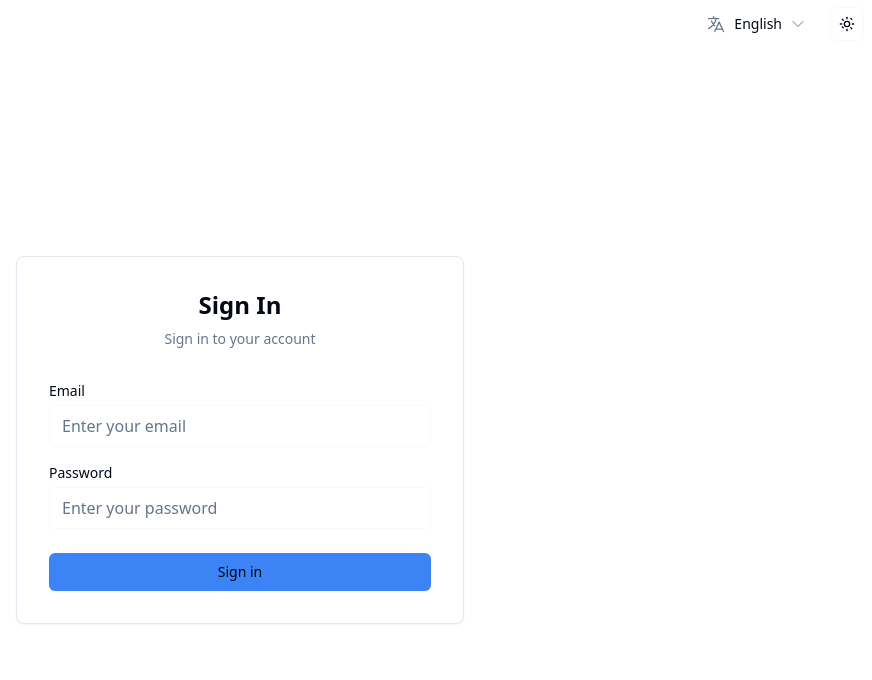
it: LoginPage › form submission › should show error message on login failure
The image size is (872, 680).
Type "user@example.com" into the field labelled "Email" at x=240, y=426, box [49, 405, 431, 447]
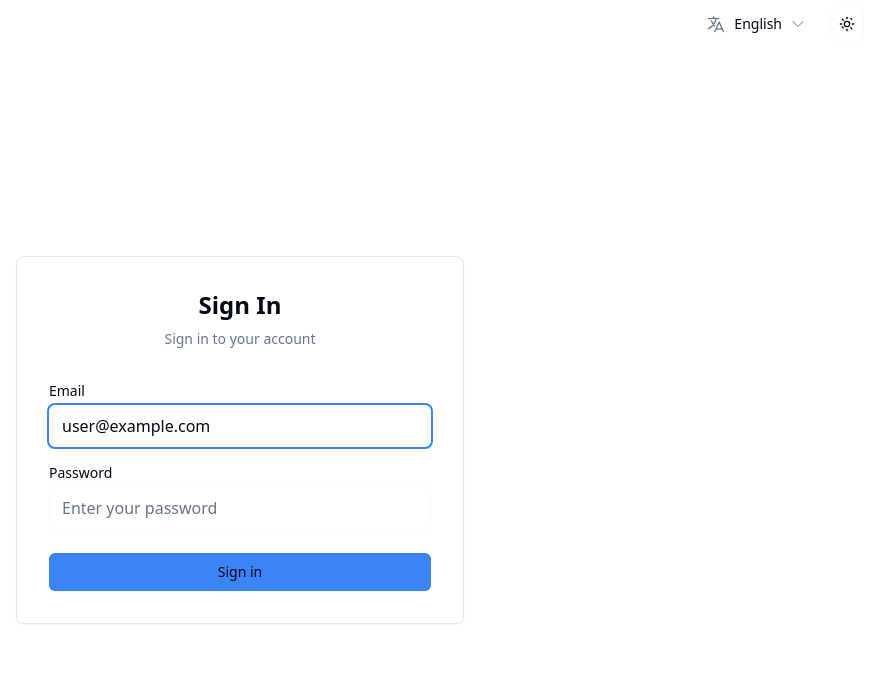
Type "wrongpassword" into the password field labelled "Password" at x=240, y=508, box [49, 487, 431, 529]
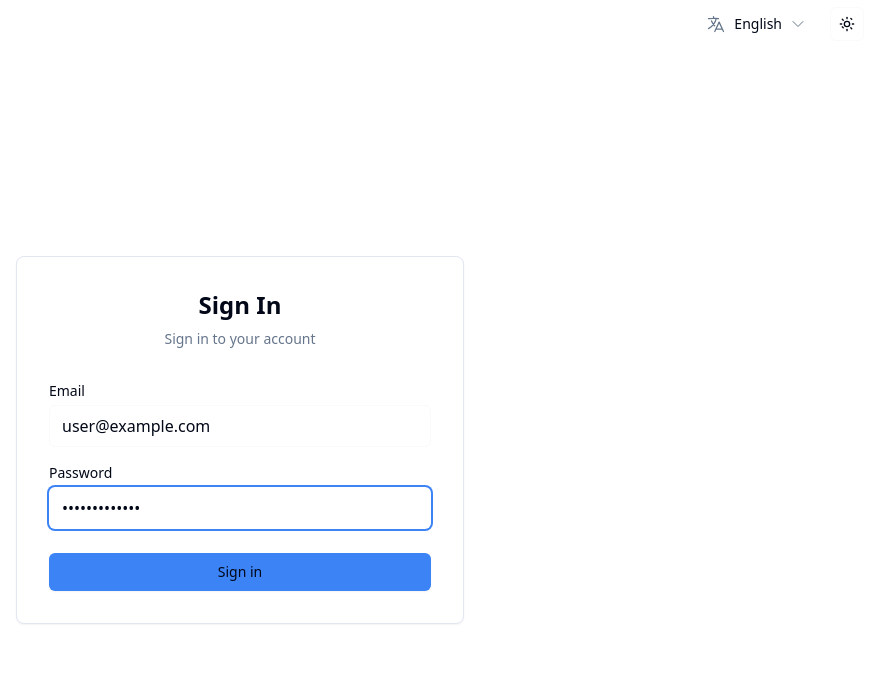
Click the button "Sign in" at x=240, y=572, box [49, 553, 431, 591]
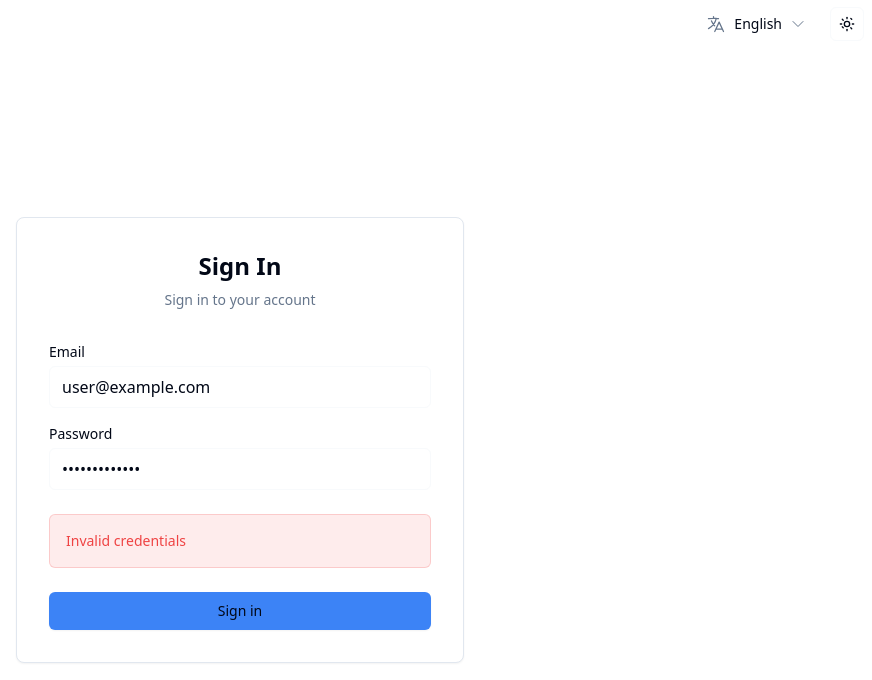
expect the text "Invalid credentials" is shown: met, box [66, 531, 186, 550]
